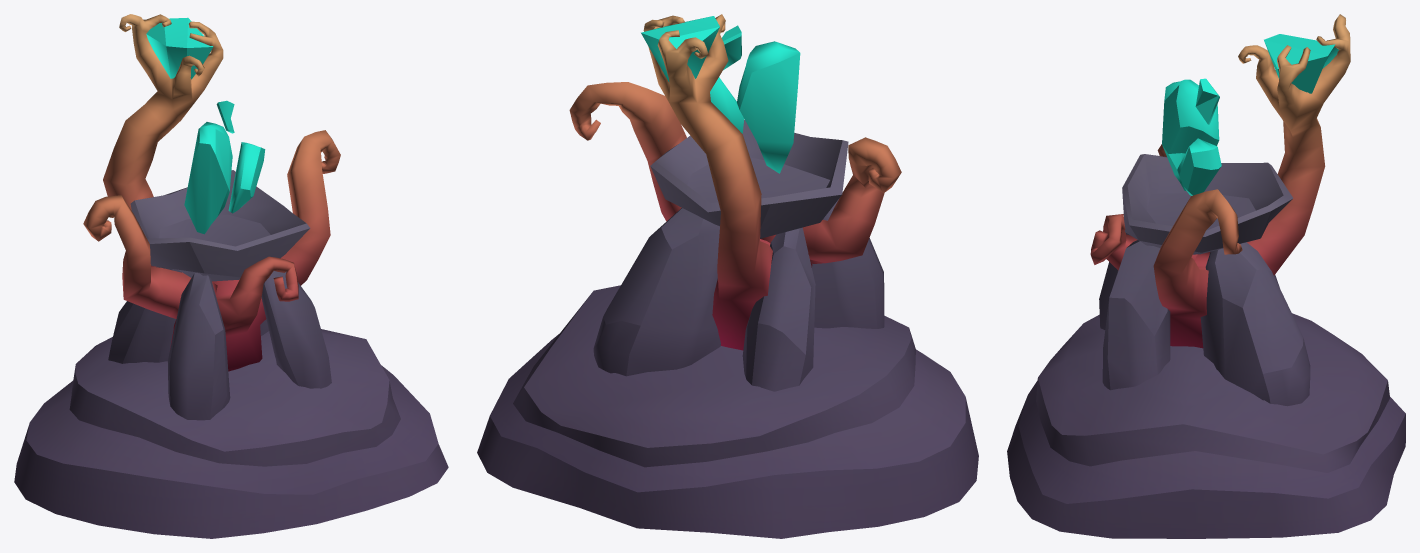
The model's file is totem.001.fbx.
The picture shows the model from 3 angles, left to right: view 1: azimuth 30°, elevation 25°; view 2: azimuth 150°, elevation 25°; view 3: azimuth 270°, elevation 25°; orthographic projection. The views are drawn at different scales.
Parts seen in each view (by area): view 1: Stone, Shards.001; view 2: Stone, Shards.001; view 3: Stone, Shards.001.
Boxes of the visible parts, x1,y1,x2,y2 form: Stone: (14, 14, 448, 538); Shards.001: (184, 100, 265, 234); Stone: (477, 14, 978, 538); Shards.001: (710, 25, 800, 173); Stone: (1007, 14, 1405, 538); Shards.001: (1162, 78, 1221, 195).
Size of the model in its own units: 1496 by 1573 by 1351.
